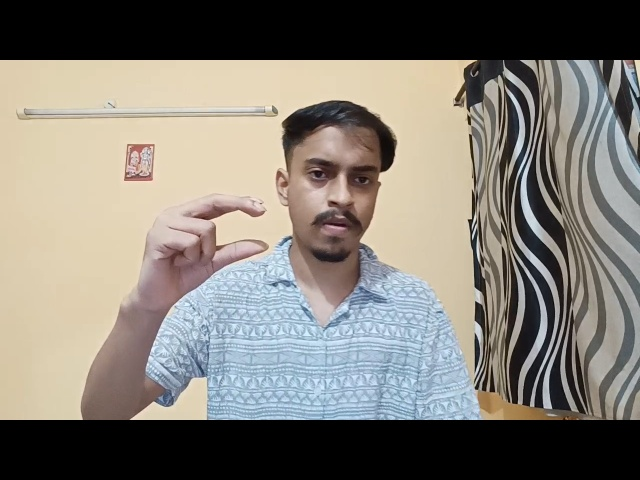No: (146, 184, 274, 289)
